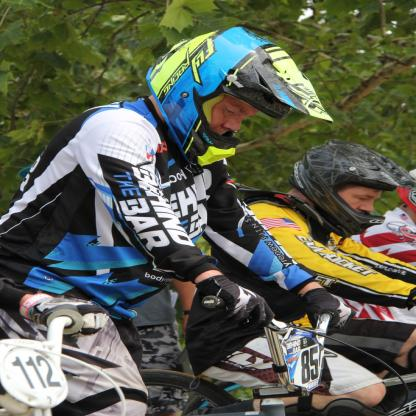Helmet: (138, 31, 314, 151), (292, 140, 416, 236), (396, 166, 416, 209)
